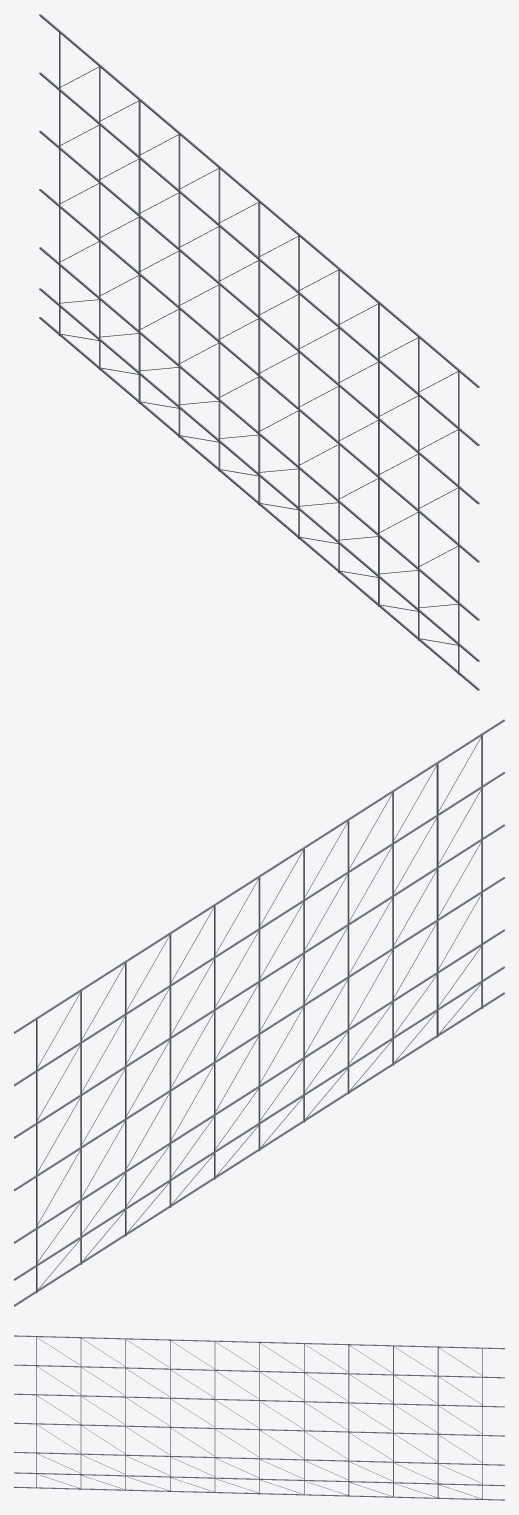
The model's file is G7_Completion_Prior_G7_MiddleExterior_E02_r001.glb.
The picture shows the model from 3 angles, top to bottom: view 1: azimuth 30°, elevation 25°; view 2: azimuth 150°, elevation 25°; view 3: azimuth 270°, elevation 25°; orthographic projection. The views are drawn at different scales.
Parts seen in each view (by area): view 1: G7_MiddleExterior_E02_frame; view 2: G7_MiddleExterior_E02_frame; view 3: G7_MiddleExterior_E02_frame.
Part boxes in pixels (left/top/right/bottom): G7_MiddleExterior_E02_frame: left=39, top=14, right=479, bottom=690; G7_MiddleExterior_E02_frame: left=14, top=719, right=504, bottom=1306; G7_MiddleExterior_E02_frame: left=14, top=1335, right=504, bottom=1500.
Bounding box in the file's own units: 8.21 × 44.5 × 130.
2 materials, 2 textured.
